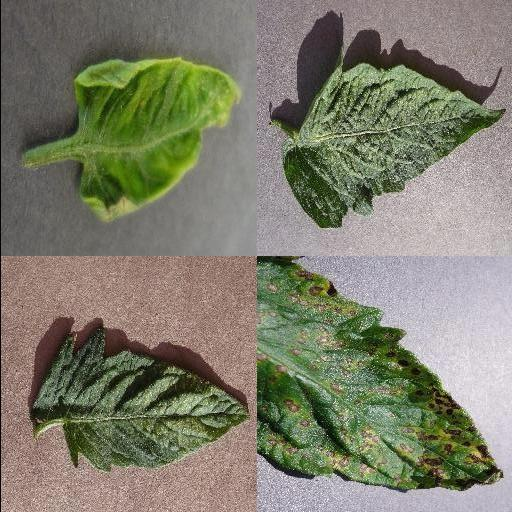Septoria: (256, 258, 502, 493)
Spider Mites: (281, 63, 507, 229), (34, 326, 252, 473)
Yellow Leaf Curl Virus: (70, 57, 242, 221)
